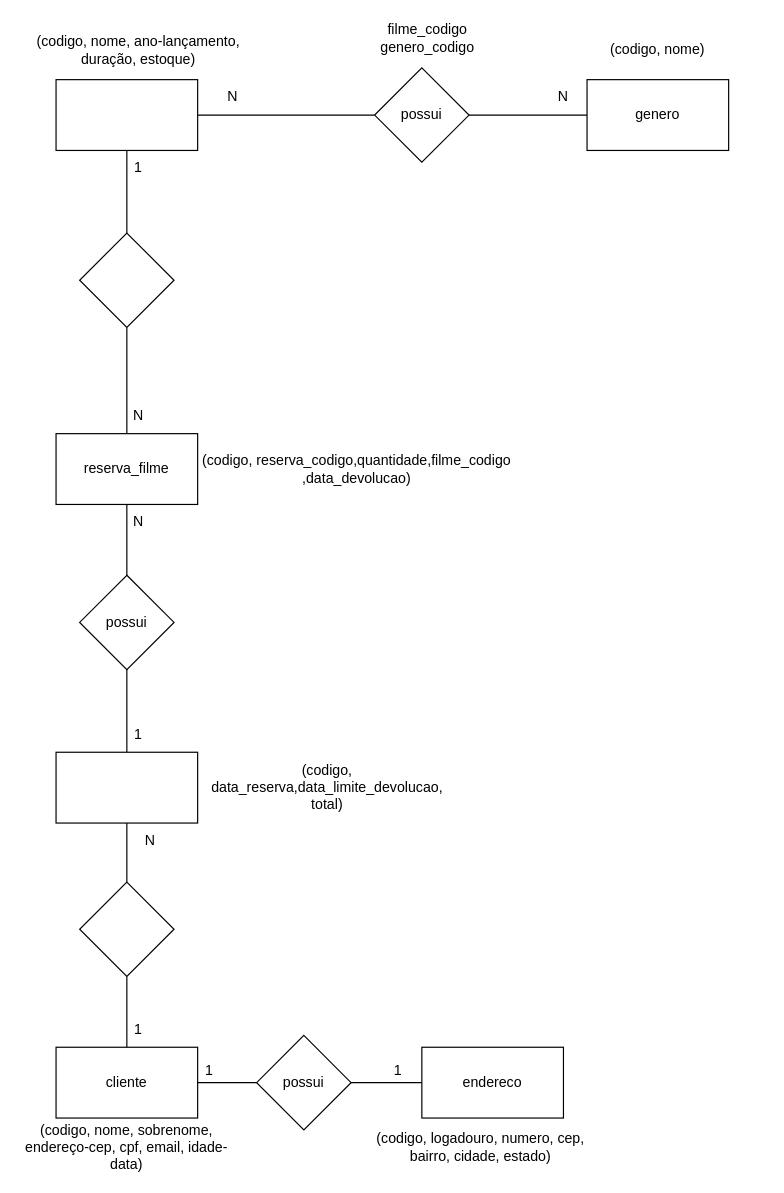
The diagram is 784 pixels wide and 1193 high, and some of its shapes have lost their labels. Each missing label, with the centre of its shape:
faz: pixel 126 928
filme: pixel 126 114
reserva: pixel 126 787
tem: pixel 126 279
